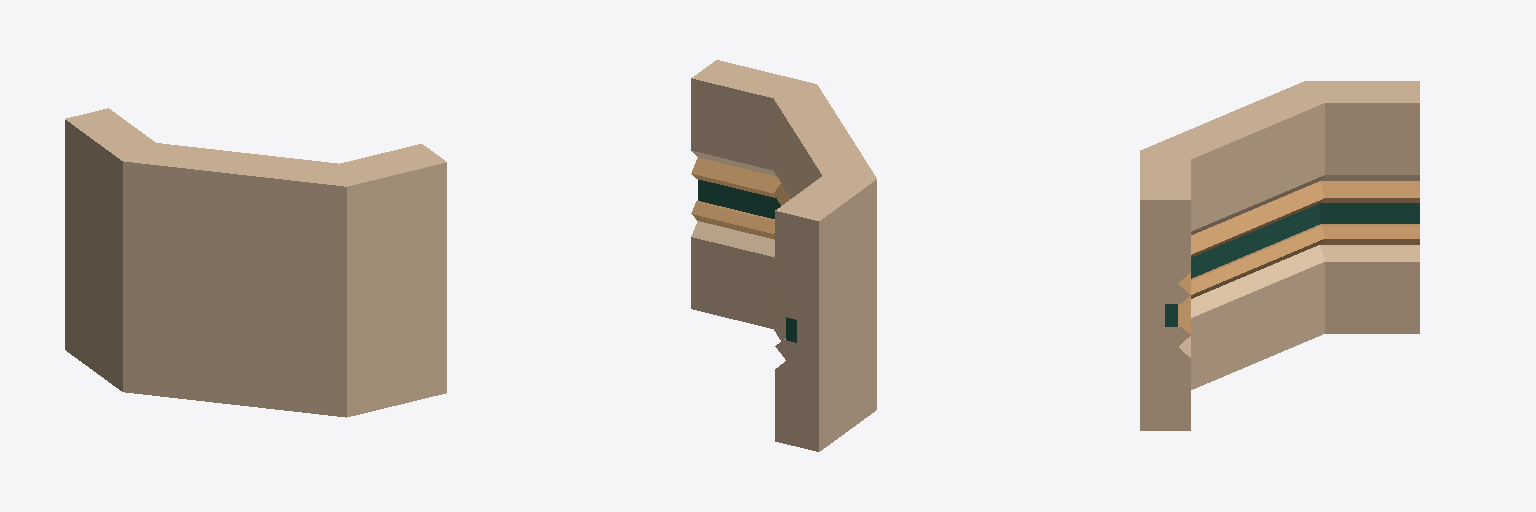
File: Puzzle_Wall_Conduit_Path_Curved_Small_Inner.obj
3 renders of one model, left to right at view 1: azimuth 30°, elevation 25°; view 2: azimuth 150°, elevation 25°; view 3: azimuth 270°, elevation 25°, orthographic.
Visible parts, largest first — view 1: object2; view 2: object2, object1; view 3: object2, object1.
Part boxes in pixels (x1,y1,x2,y2): object2: (65,108,446,417); object2: (691,60,876,451); object1: (698,179,796,342); object2: (1140,81,1419,430); object1: (1165,203,1419,326).
Bounding box in the file's own units: 1.1 × 1 × 1.1.